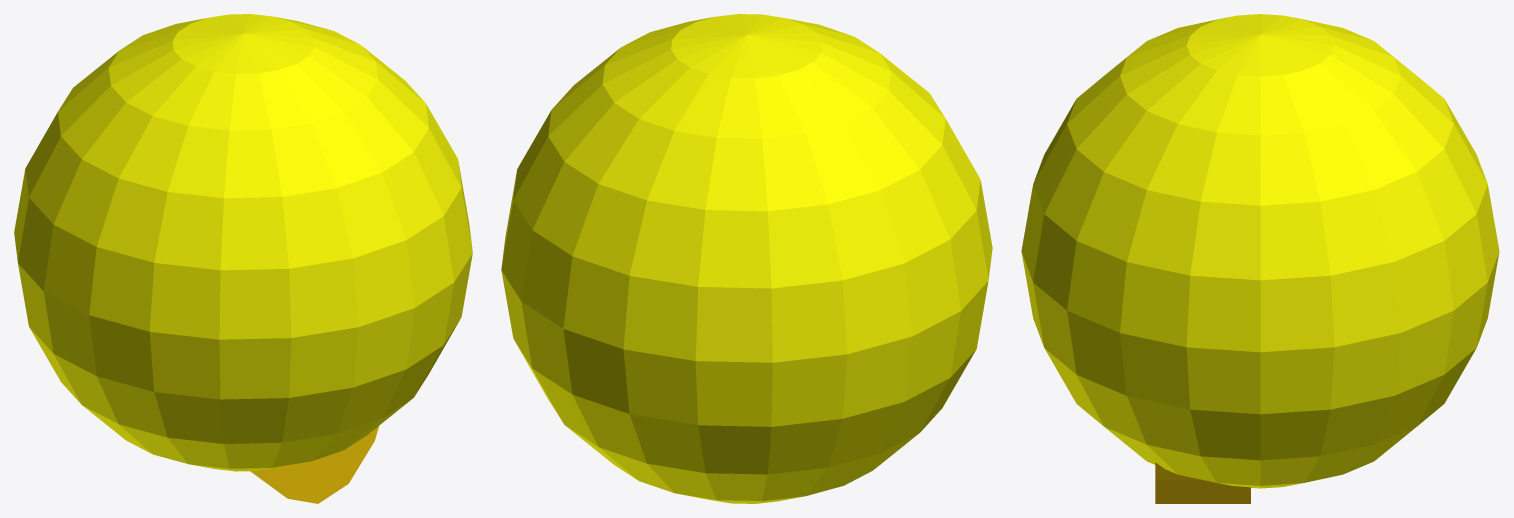
The picture shows the model from 3 angles, left to right: view 1: azimuth 30°, elevation 25°; view 2: azimuth 150°, elevation 25°; view 3: azimuth 270°, elevation 25°; orthographic projection. The views are drawn at different scales.
Visible parts, largest first — view 1: sphere, cylinder; view 2: sphere; view 3: sphere, cylinder.
Boxes of the visible parts, x1=… form: sphere: x1=14, y1=14, x2=472, y2=471; cylinder: x1=250, y1=426, x2=378, y2=503; sphere: x1=501, y1=14, x2=992, y2=503; sphere: x1=1021, y1=14, x2=1499, y2=488; cylinder: x1=1155, y1=462, x2=1250, y2=503.
Bounding box in the file's own units: 0.5 × 0.525 × 0.5.
